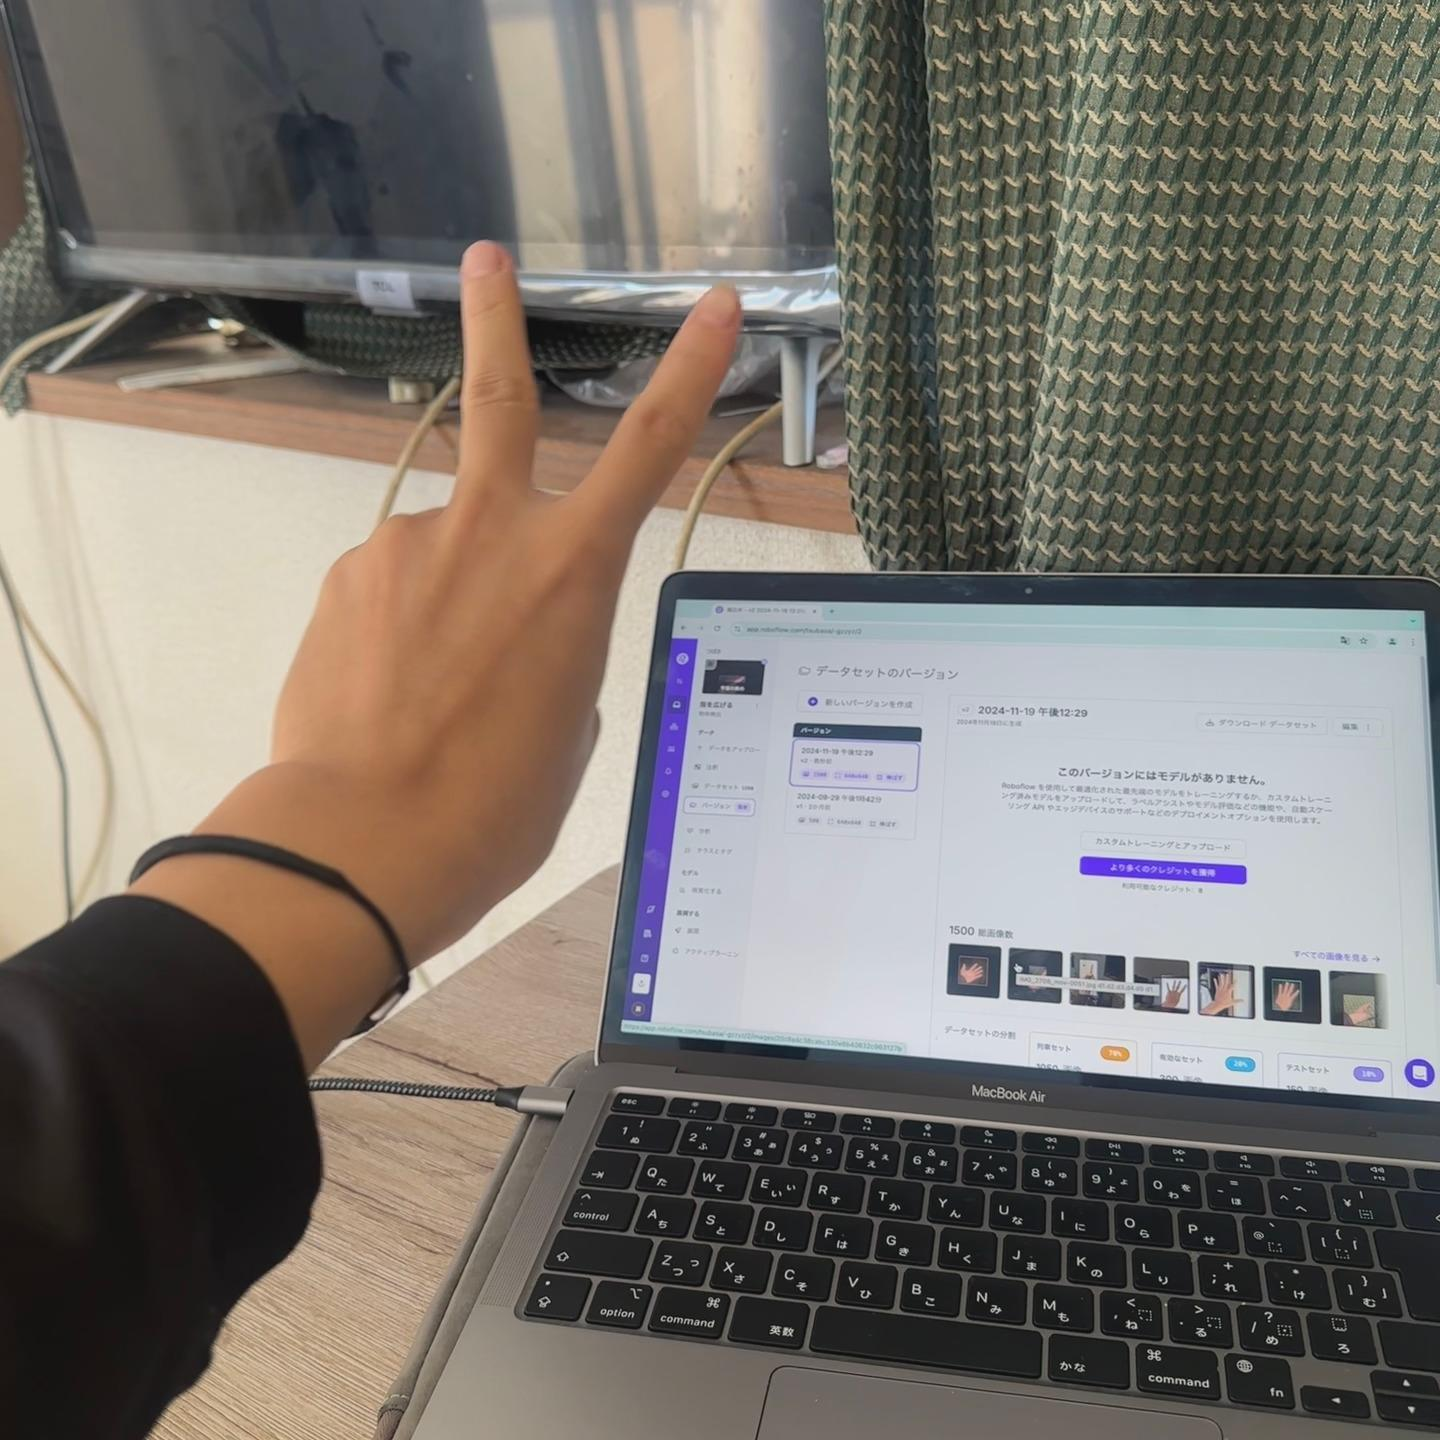without_gloves: (237, 148, 943, 874)
